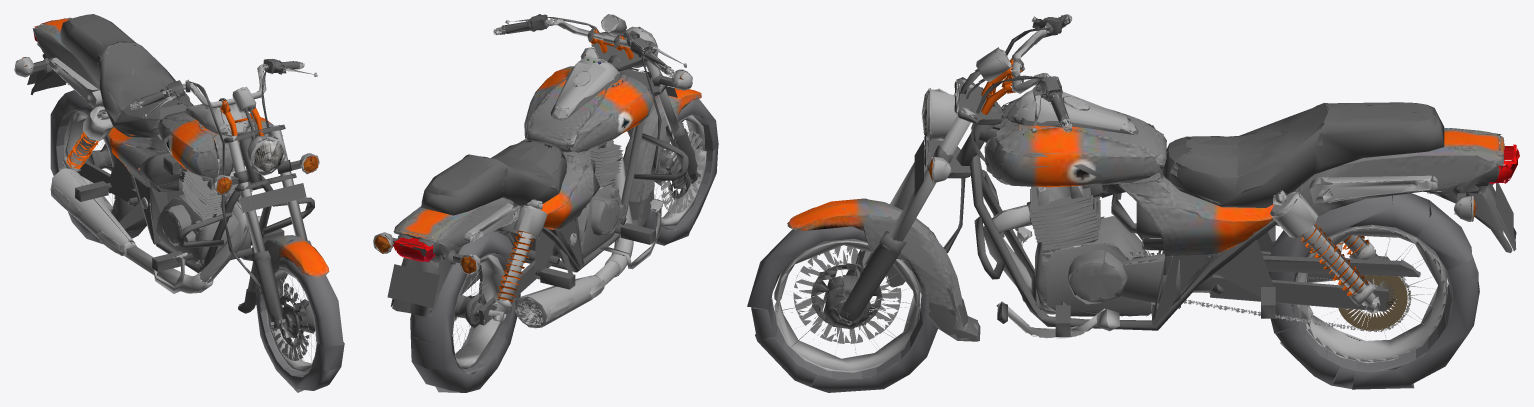
Rendered from bike-avenger.glb.
The picture shows the model from 3 angles, left to right: view 1: azimuth 30°, elevation 25°; view 2: azimuth 150°, elevation 25°; view 3: azimuth 270°, elevation 25°; orthographic projection. The views are drawn at different scales.
Visible parts, largest first — view 1: Object_4; view 2: Object_4; view 3: Object_4.
Part boxes in pixels (x1,y1,x2,y2): Object_4: (14,14,344,392); Object_4: (373,14,718,392); Object_4: (747,14,1519,392).
Size of the model in its own units: 0.7671 by 1.09 by 2.2.
Materials: 21 (4 with a texture image).
